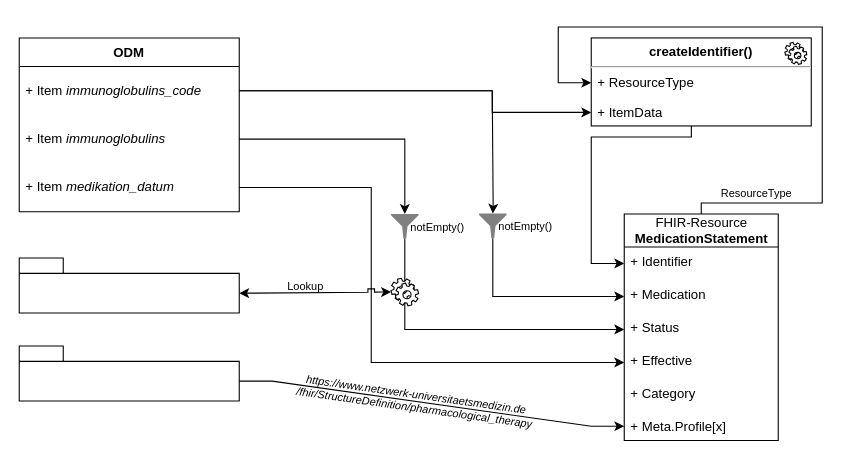
The diagram is 850 pixels wide and 463 high, and some of its shapes have lost their labels. The shapes that lost their labels are listed below. From the top down, each one's centre as x and y in pixels, then its label:
At point (128, 285): "ValueSet MedicationStatementStatus".
At point (128, 373): "GECCO Profiles".
